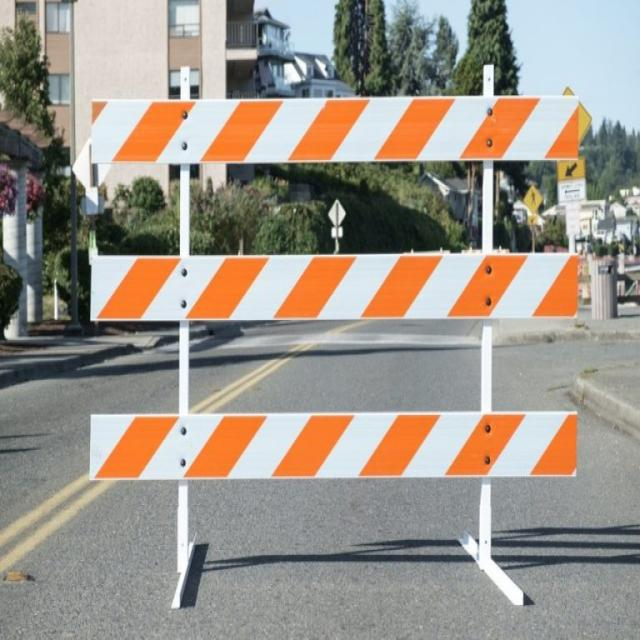cone: (77, 68, 588, 610)
